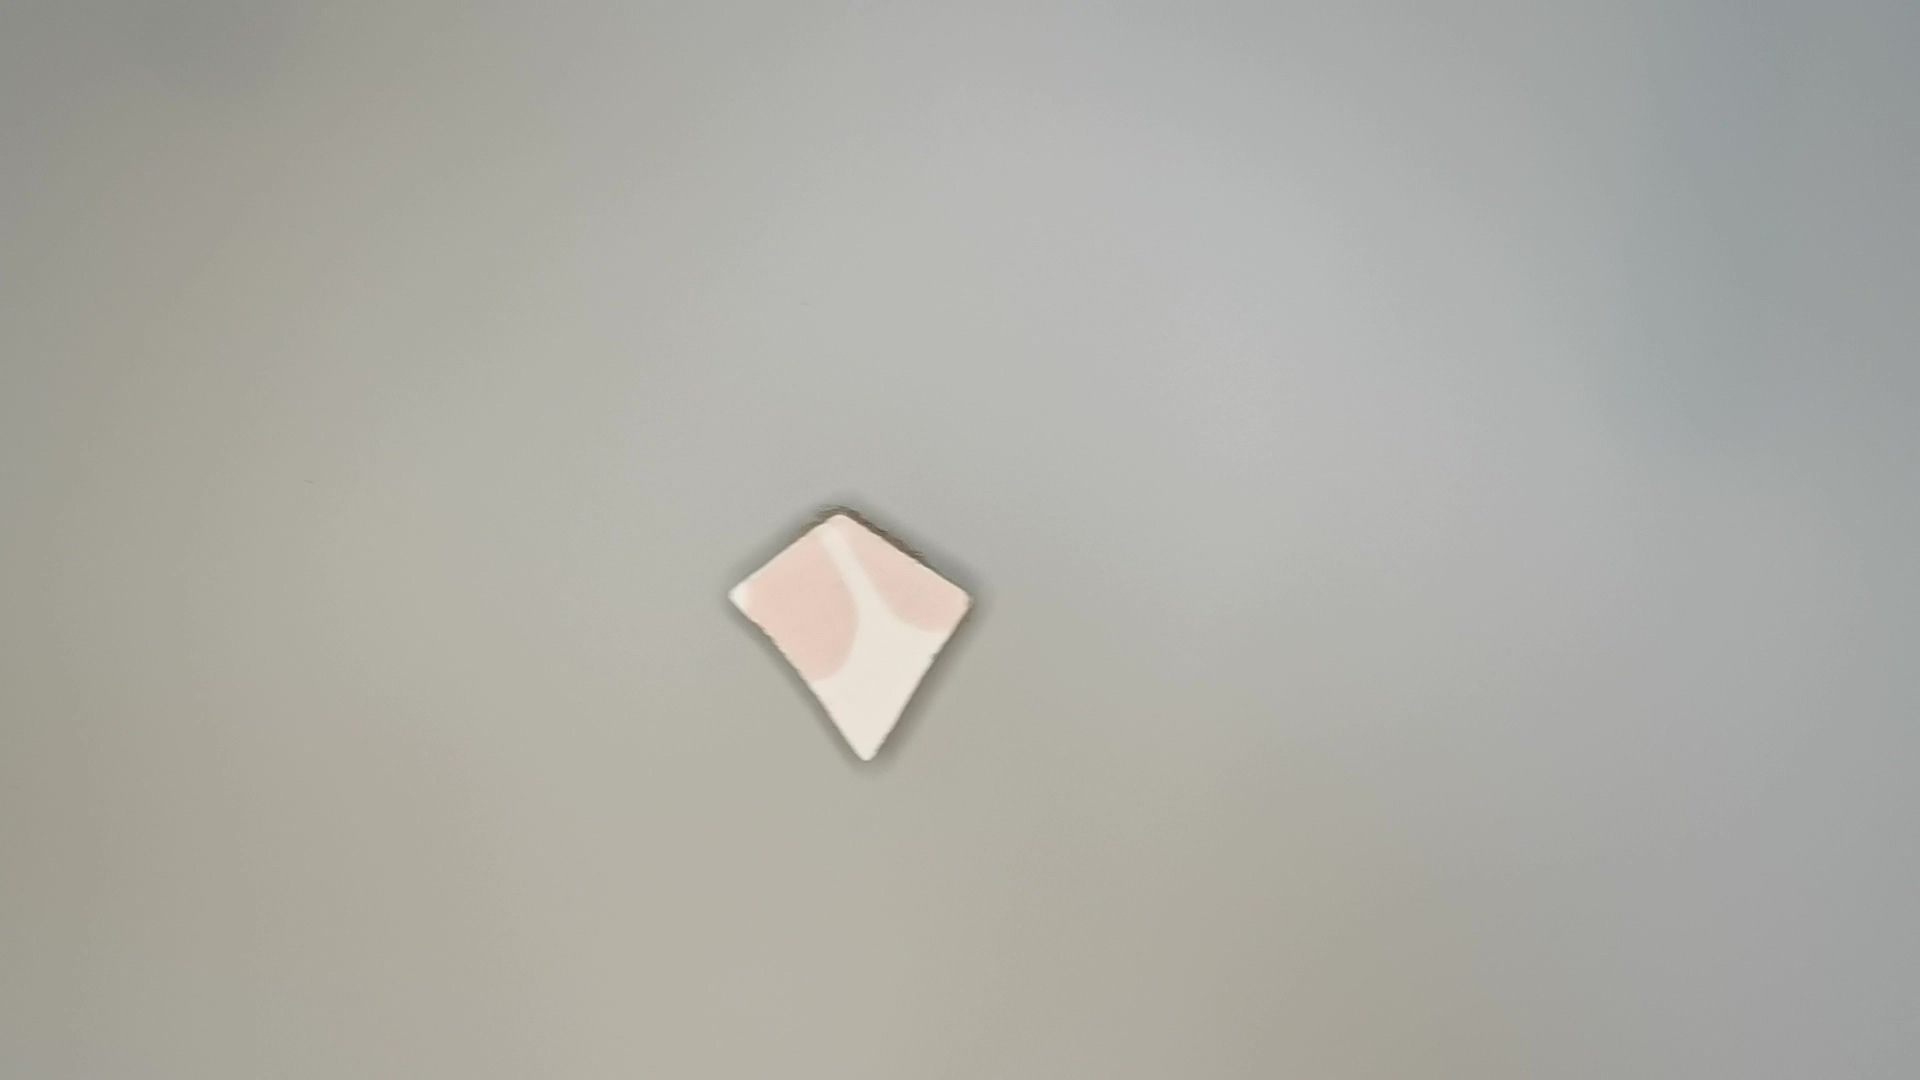ceramic: (721, 505, 973, 782)
